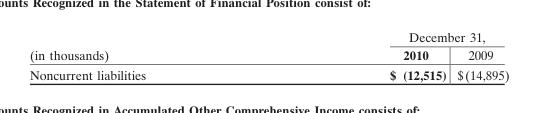table: (28, 28, 508, 82)
table column: (28, 28, 267, 82), (267, 28, 451, 82), (451, 28, 508, 82)
table column header: (28, 28, 508, 64)
table row: (28, 45, 508, 64), (28, 64, 508, 82), (28, 28, 508, 45)
table spanning cell: (28, 28, 267, 64), (267, 28, 508, 45)
